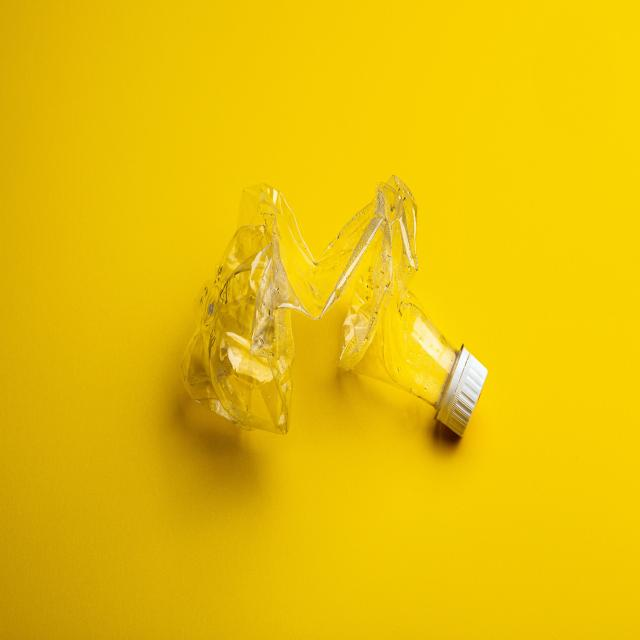plastic: (348, 211, 437, 391), (212, 229, 294, 407)
